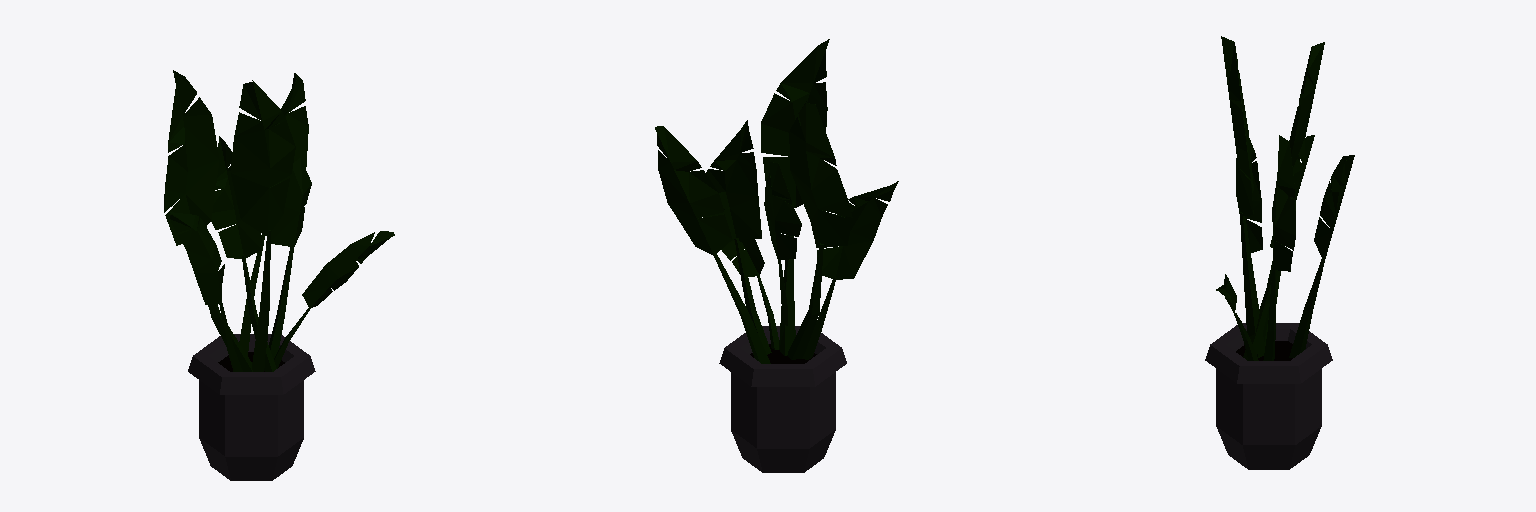
File: FlowerPot4.obj
3 renders of one model, left to right at view 1: azimuth 30°, elevation 25°; view 2: azimuth 150°, elevation 25°; view 3: azimuth 270°, elevation 25°, orthographic.
Parts seen in each view (by area): view 1: FlowerPot4_Cylinder; view 2: FlowerPot4_Cylinder; view 3: FlowerPot4_Cylinder.
Boxes of the visible parts, <box> form: FlowerPot4_Cylinder: <box>164,70,394,480</box>; FlowerPot4_Cylinder: <box>655,39,898,472</box>; FlowerPot4_Cylinder: <box>1205,36,1354,469</box>.
Bounding box in the file's own units: 1.03 × 1.85 × 0.6182.